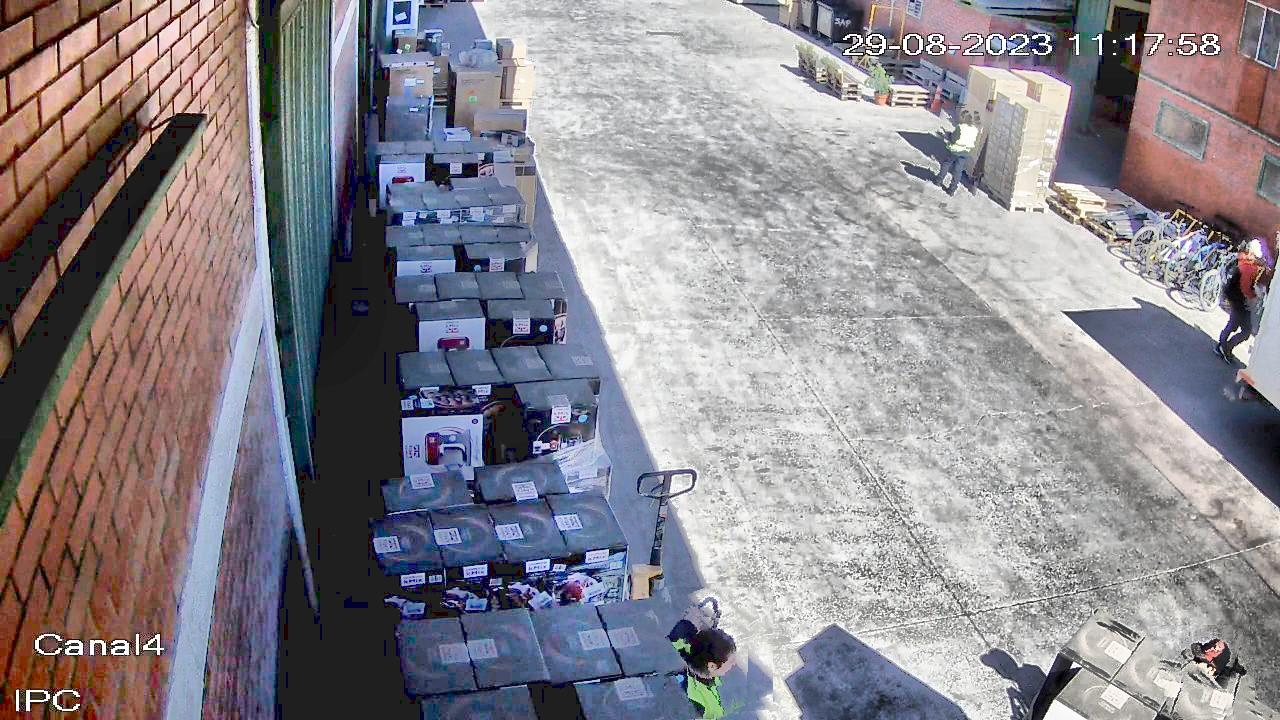con-casco: (1239, 237, 1271, 267)
con-chaleco: (664, 628, 740, 720), (944, 120, 981, 156)
persona: (642, 587, 773, 720), (1189, 233, 1279, 370), (1157, 625, 1256, 720), (928, 104, 989, 207)
sin-casco: (685, 616, 750, 687), (1181, 635, 1238, 691), (957, 107, 976, 124)
sin-chaleco: (1218, 253, 1266, 308)
